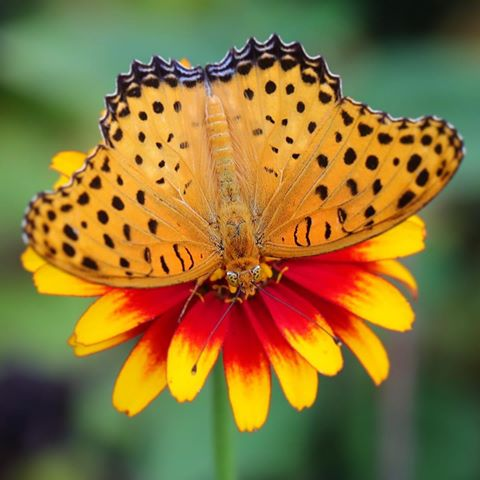Argyreus hyperbius: (15, 31, 465, 346)
butterfly: (17, 33, 467, 348)
